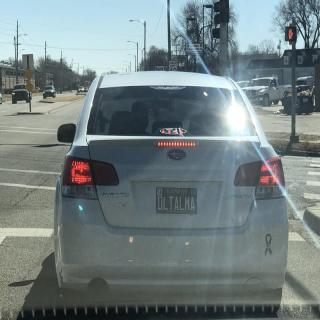license: (156, 187, 199, 217)
